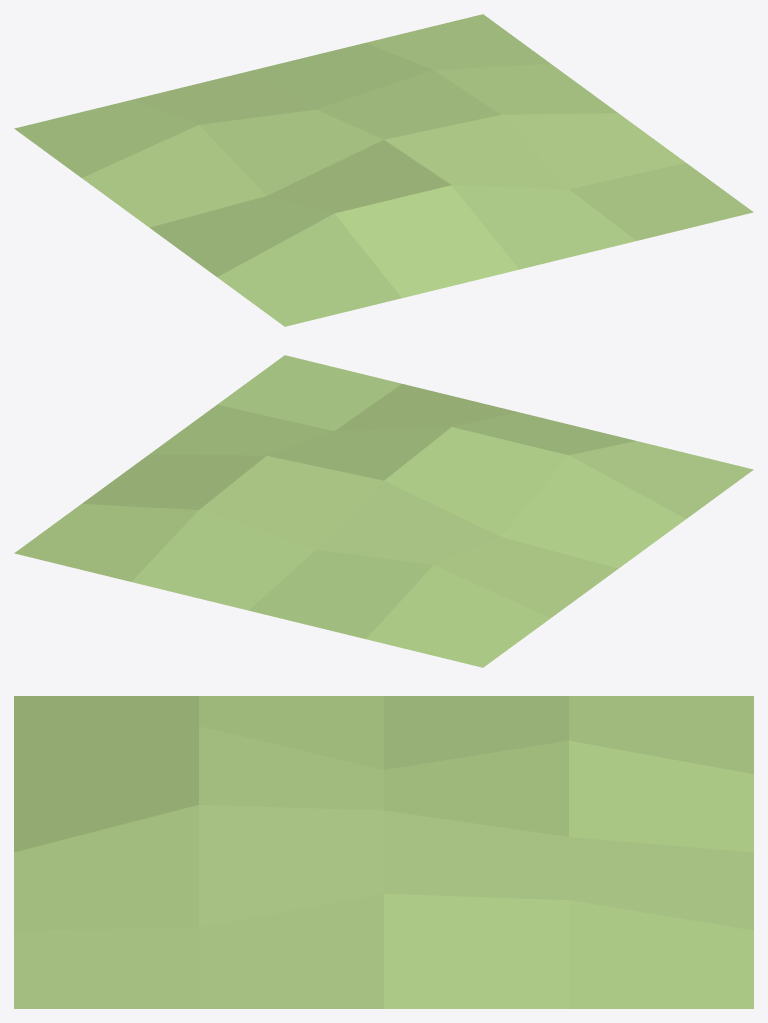
File: Tile_02_Grass_Bumpy.glb
The picture shows the model from 3 angles, top to bottom: view 1: azimuth 30°, elevation 25°; view 2: azimuth 150°, elevation 25°; view 3: azimuth 270°, elevation 25°; orthographic projection. The views are drawn at different scales.
Parts seen in each view (by area): view 1: Tile_Grass_Bumpy; view 2: Tile_Grass_Bumpy; view 3: Tile_Grass_Bumpy.
Part boxes in pixels (x1,y1,x2,y2): Tile_Grass_Bumpy: (14,14,753,326); Tile_Grass_Bumpy: (14,355,753,667); Tile_Grass_Bumpy: (14,696,753,1008).
Size of the model in its own units: 0.2 by 0.0143 by 0.2.
